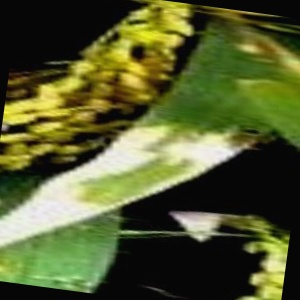Leaf_Blast: (75, 119, 227, 208)
